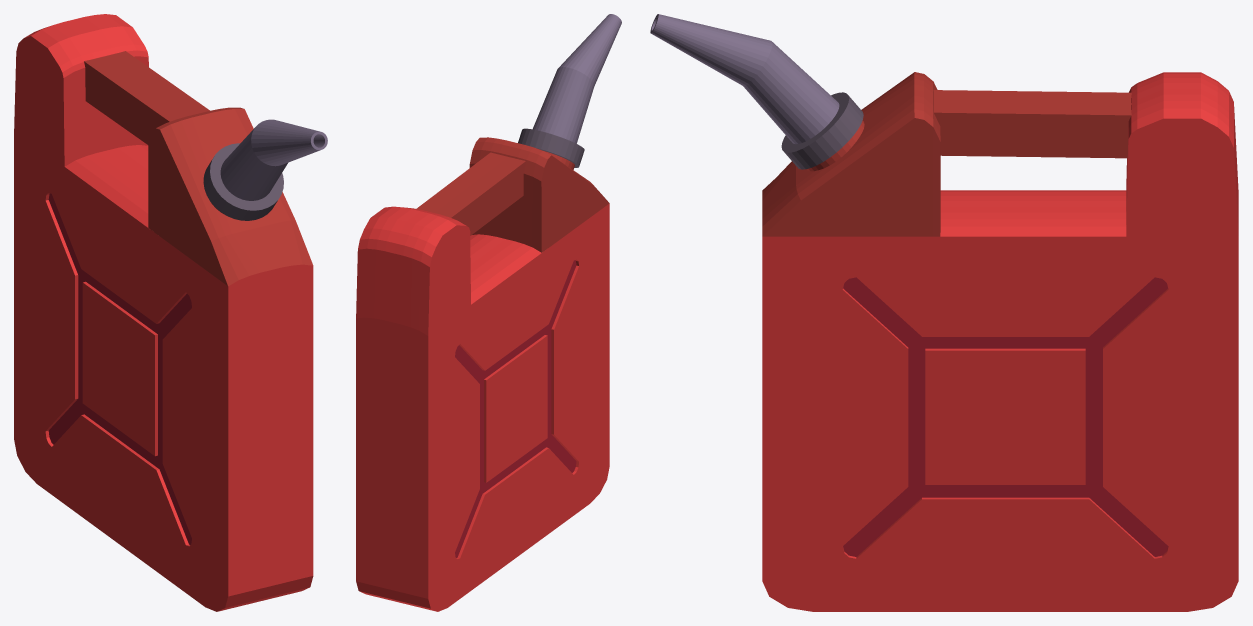
File: Galão CB PRONTO.fbx
3 renders of one model, left to right at view 1: azimuth 30°, elevation 25°; view 2: azimuth 150°, elevation 25°; view 3: azimuth 270°, elevation 25°, orthographic. The views are drawn at different scales.
Parts seen in each view (by area): view 1: Cube; view 2: Cube; view 3: Cube.
Part boxes in pixels (x1=…): Cube: x1=14, y1=14, x2=327, y2=611; Cube: x1=356, y1=14, x2=621, y2=611; Cube: x1=650, y1=14, x2=1238, y2=611.
Bounding box in the file's own units: 52.87 × 306 × 284.
